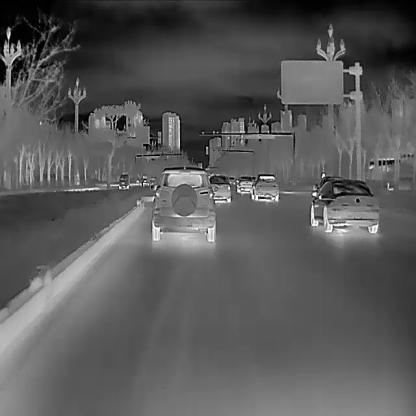car: (149, 166, 218, 241), (310, 178, 379, 232), (251, 172, 278, 201), (208, 173, 231, 202), (313, 175, 341, 196), (236, 175, 252, 193), (119, 173, 130, 188)
